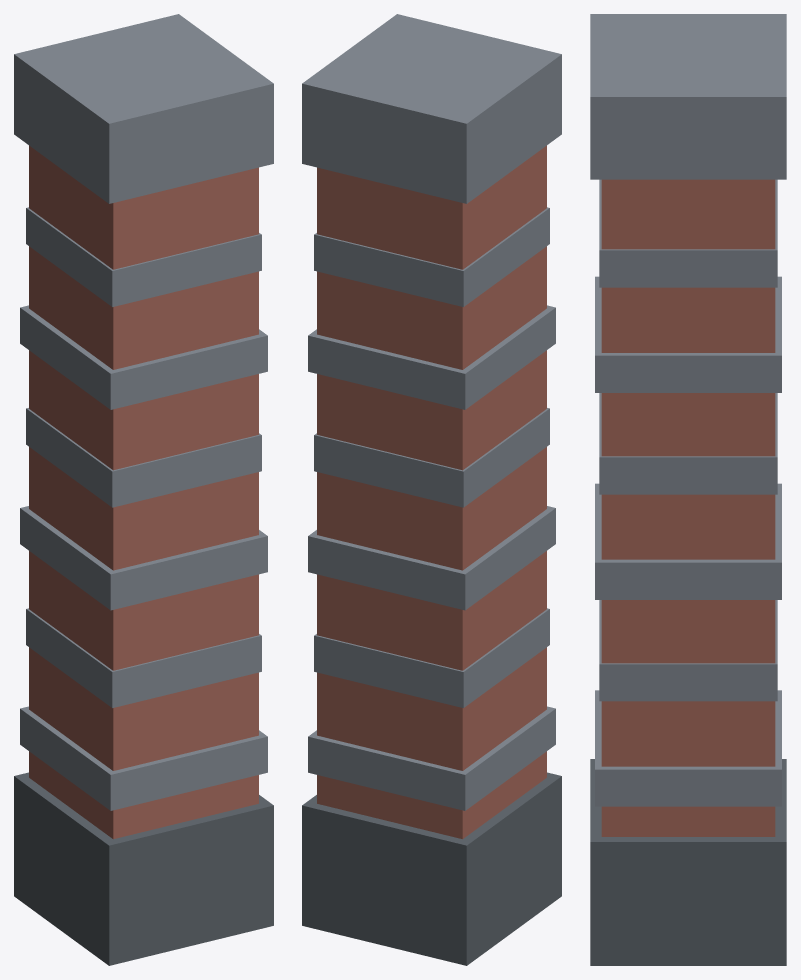
File: arkham_pillar_brickquoin.glb
3 views of the same model, side by side, from view 1: azimuth 30°, elevation 25°; view 2: azimuth 150°, elevation 25°; view 3: azimuth 270°, elevation 25° (orthographic). The views are drawn at different scales.
Visible parts, largest first — view 1: Arkham_Pillar_BrickQuoin; view 2: Arkham_Pillar_BrickQuoin; view 3: Arkham_Pillar_BrickQuoin.
Boxes of the visible parts, x1,y1,x2,y2 form: Arkham_Pillar_BrickQuoin: [14, 14, 273, 965]; Arkham_Pillar_BrickQuoin: [302, 14, 561, 965]; Arkham_Pillar_BrickQuoin: [590, 14, 786, 965].
Bounding box in the file's own units: 0.86 × 4.2 × 0.86.
